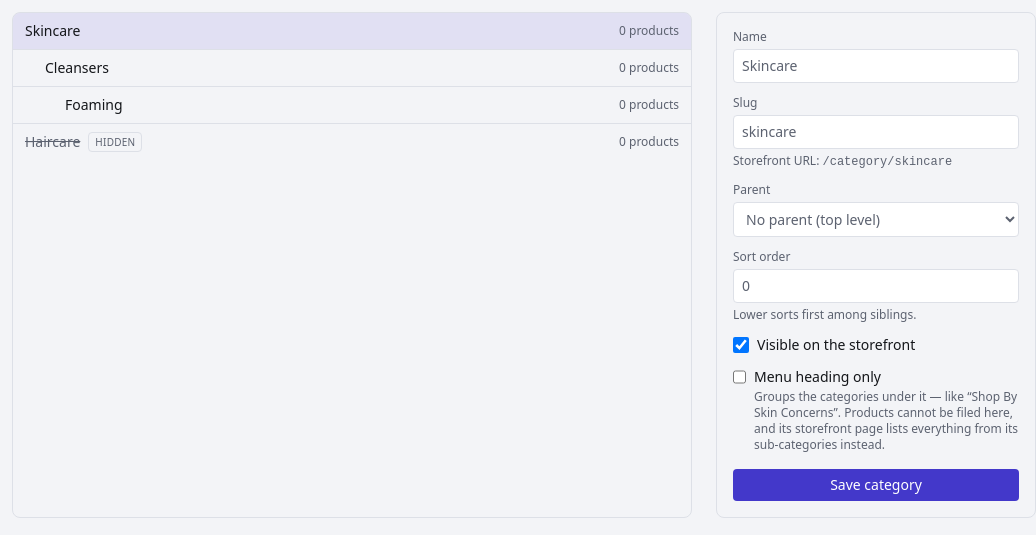
Test: CategoryManager › REPLACES the form values when a different category is picked
Click the button "Cleansers 0 products" at (77, 68), box [13,50,691,86]
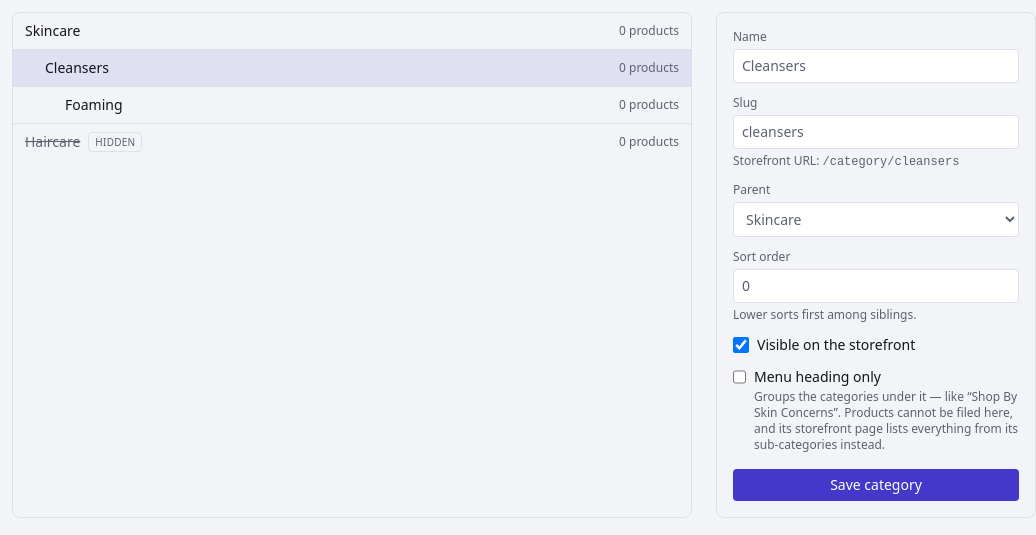
Click the button "Haircare Hidden 0 products" at (53, 142), box [13,124,691,160]
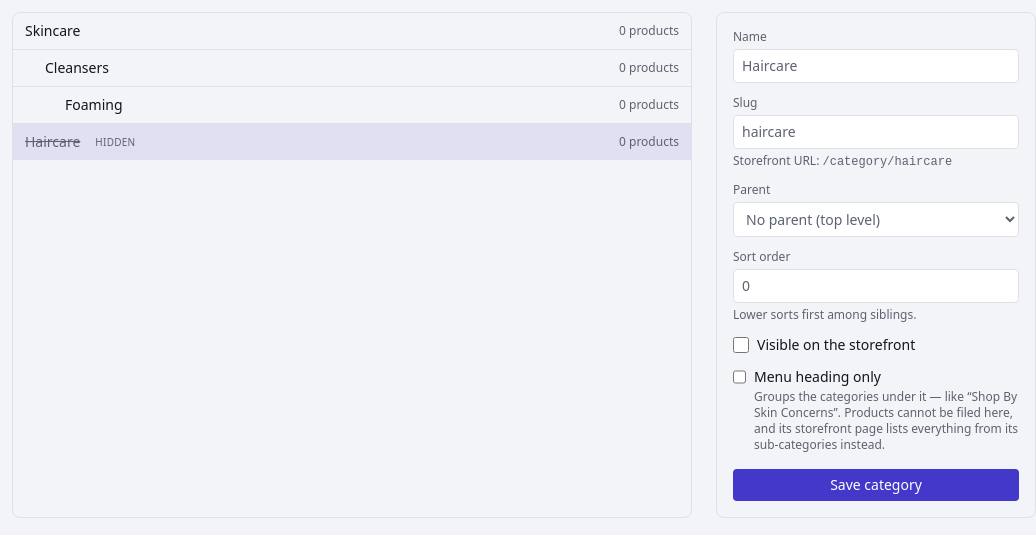
Result: the field labelled "Name" holds "Haircare" at [733,49,1019,83]
